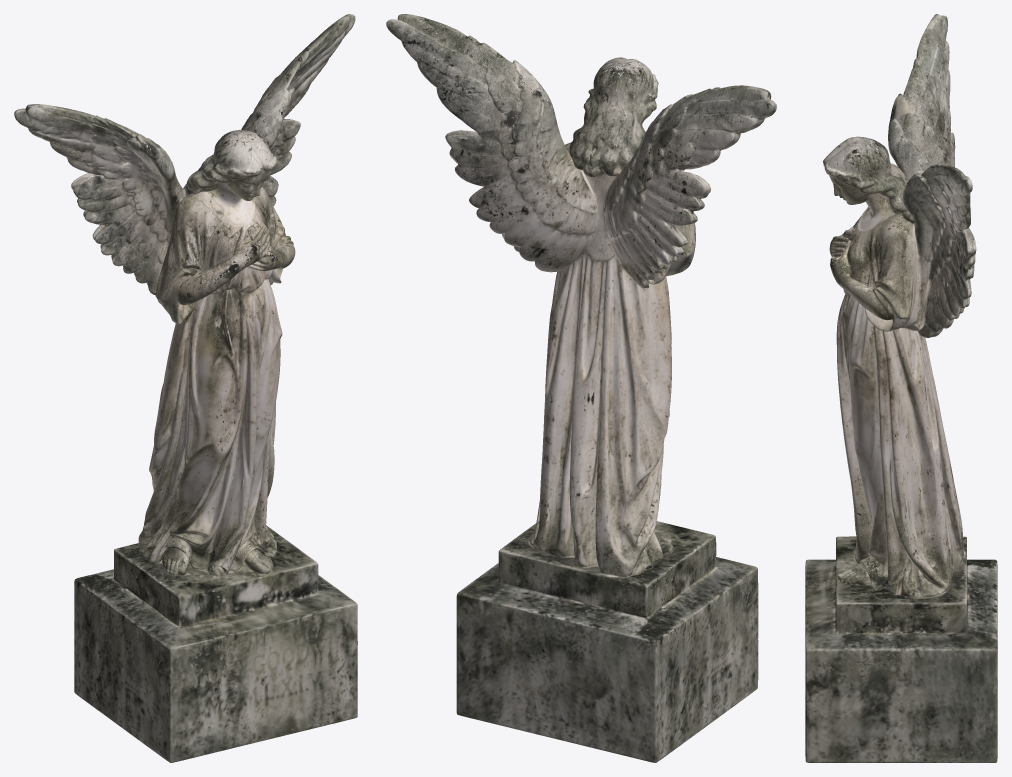
File: angel.glb
The picture shows the model from 3 angles, left to right: view 1: azimuth 30°, elevation 25°; view 2: azimuth 150°, elevation 25°; view 3: azimuth 270°, elevation 25°; orthographic projection. The views are drawn at different scales.
Visible parts, largest first — view 1: Mesh_0; view 2: Mesh_0; view 3: Mesh_0.
Part boxes in pixels (<box>): Mesh_0: <box>14,14,357,762</box>; Mesh_0: <box>386,14,776,762</box>; Mesh_0: <box>805,14,997,762</box>.
Size of the model in its own units: 1.21 by 2.05 by 0.5731.
Materials: 1 (1 with a texture image).
